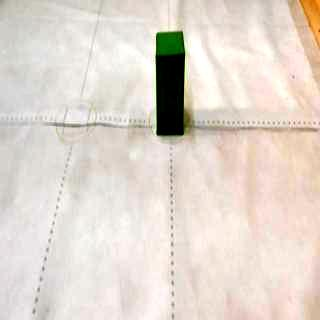greenbox: (155, 32, 184, 134)
